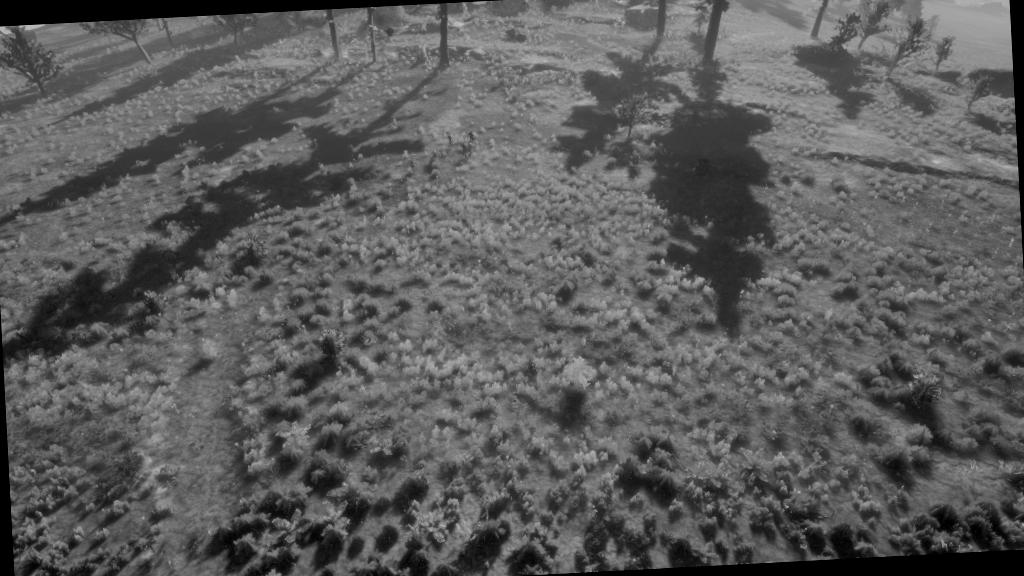Fire: (316, 35, 354, 68), (366, 42, 403, 64)
human: (407, 155, 419, 174), (466, 130, 478, 146), (465, 142, 474, 159), (430, 148, 440, 163), (446, 132, 454, 148), (460, 142, 467, 158)
